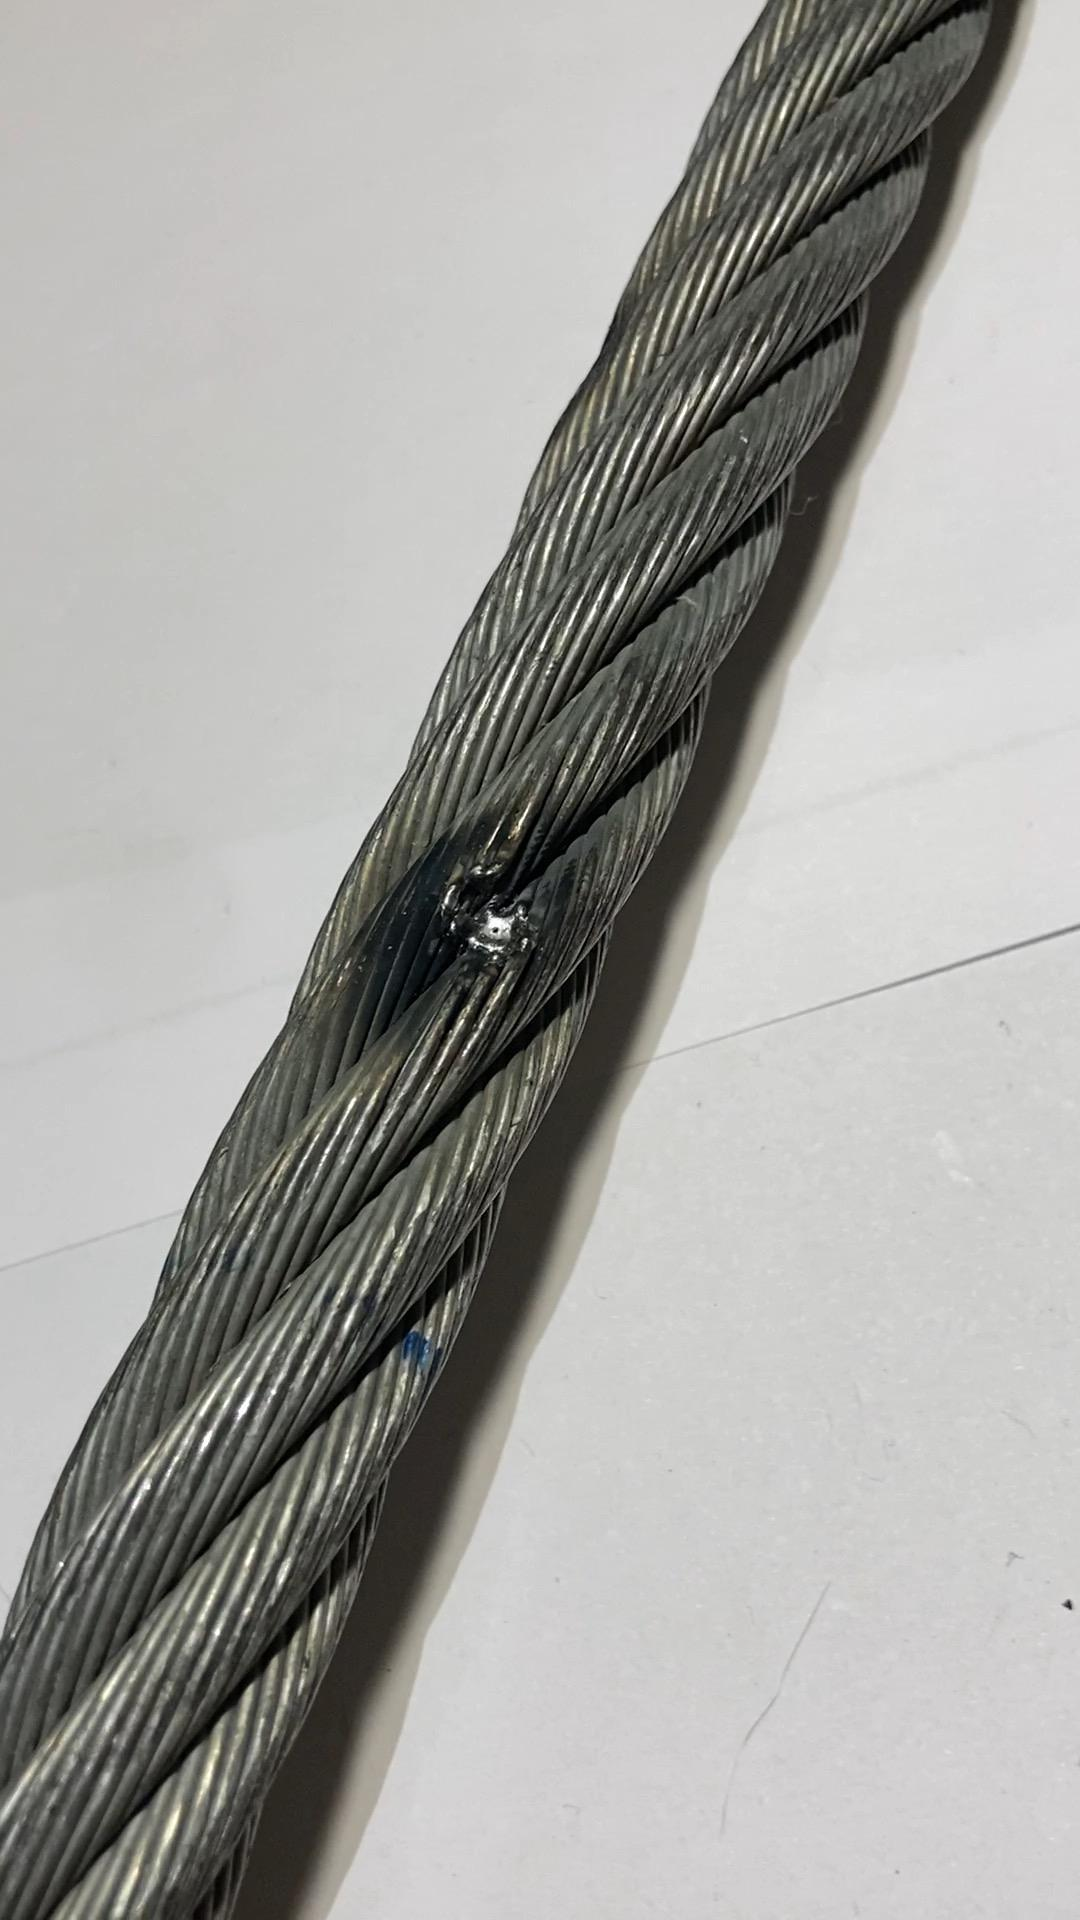thunderbolt: (433, 820, 582, 980)
